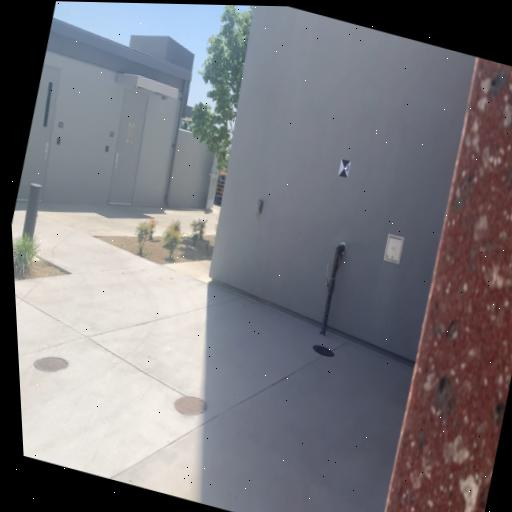target3: (338, 158, 351, 178)
